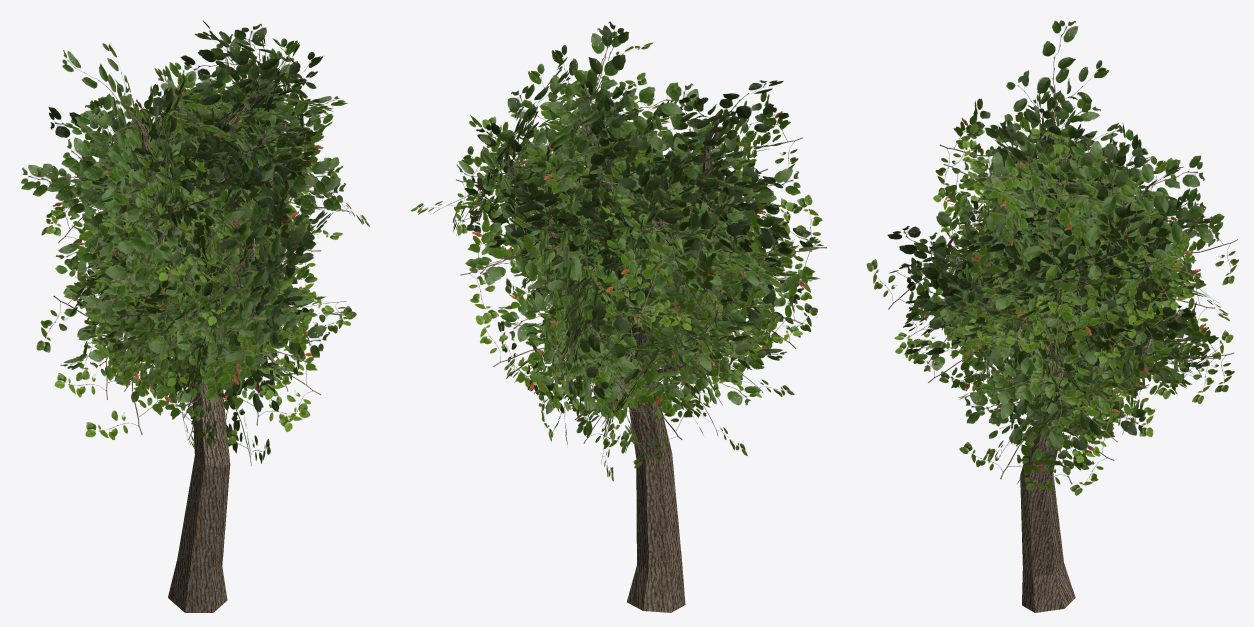
File: Scrub_Tree_with_Leaves.glb
The picture shows the model from 3 angles, left to right: view 1: azimuth 30°, elevation 25°; view 2: azimuth 150°, elevation 25°; view 3: azimuth 270°, elevation 25°; orthographic projection. The views are drawn at different scales.
Parts seen in each view (by area): view 1: Cube.510; view 2: Cube.510; view 3: Cube.510.
Boxes of the visible parts, x1,y1,x2,y2 form: Cube.510: (21, 20, 369, 612); Cube.510: (411, 21, 826, 612); Cube.510: (866, 20, 1238, 612).
Size of the model in its own units: 6.07 by 10.06 by 6.45.
2 materials, 2 textured.
